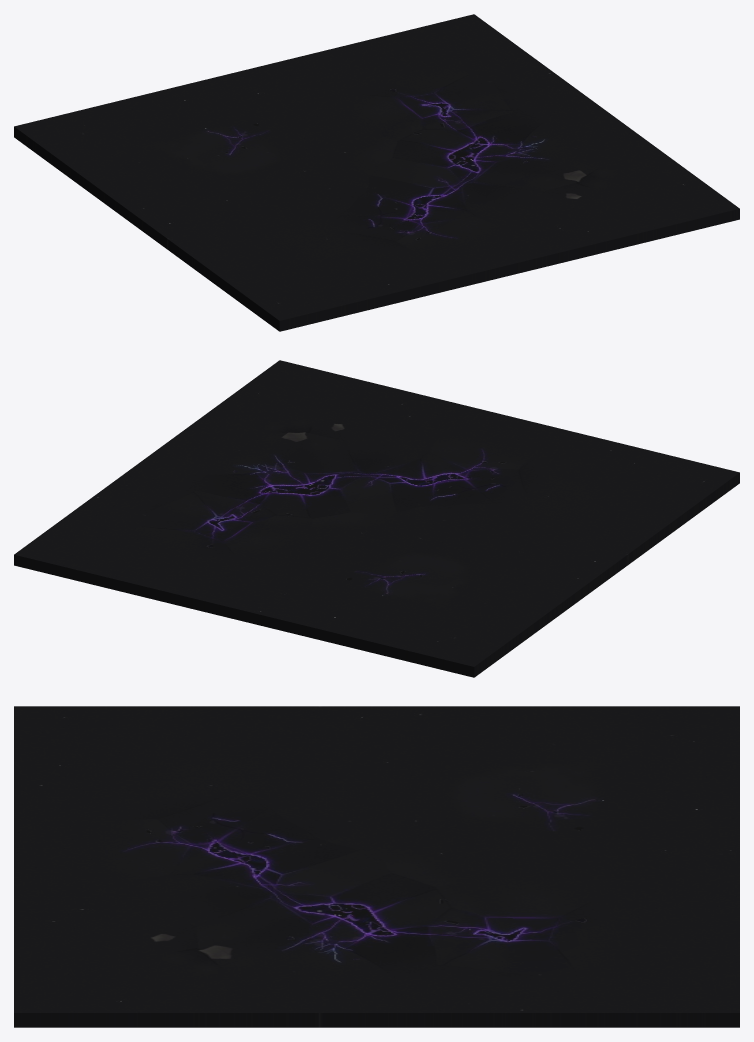
Rendered from abyss_floor_b.glb.
3 renders of one model, top to bottom at view 1: azimuth 30°, elevation 25°; view 2: azimuth 150°, elevation 25°; view 3: azimuth 270°, elevation 25°, orthographic. The views are drawn at different scales.
Parts seen in each view (by area): view 1: abyss_floor_b; view 2: abyss_floor_b; view 3: abyss_floor_b.
Boxes of the visible parts, bbox=[...] form: abyss_floor_b: bbox=[14, 14, 739, 331]; abyss_floor_b: bbox=[14, 360, 739, 677]; abyss_floor_b: bbox=[14, 706, 739, 1027].
Size of the model in its own units: 4 by 0.0974 by 4.
Materials: 1 (1 with a texture image).
